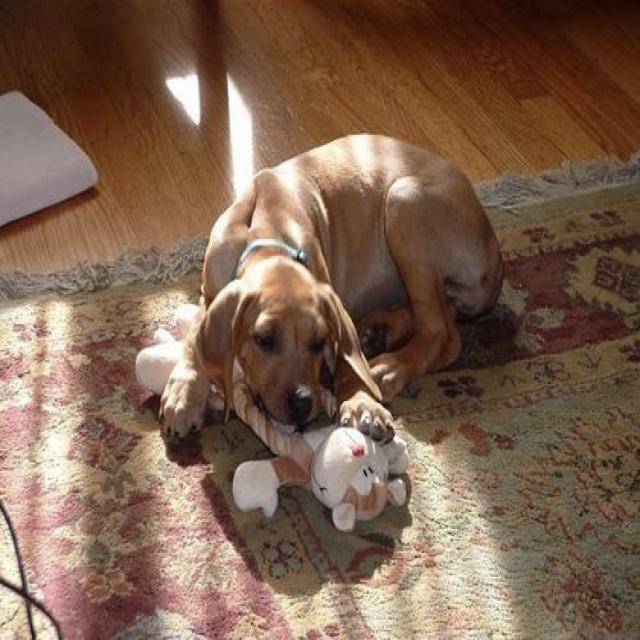rhodesian_ridgeback: (158, 125, 512, 442)
